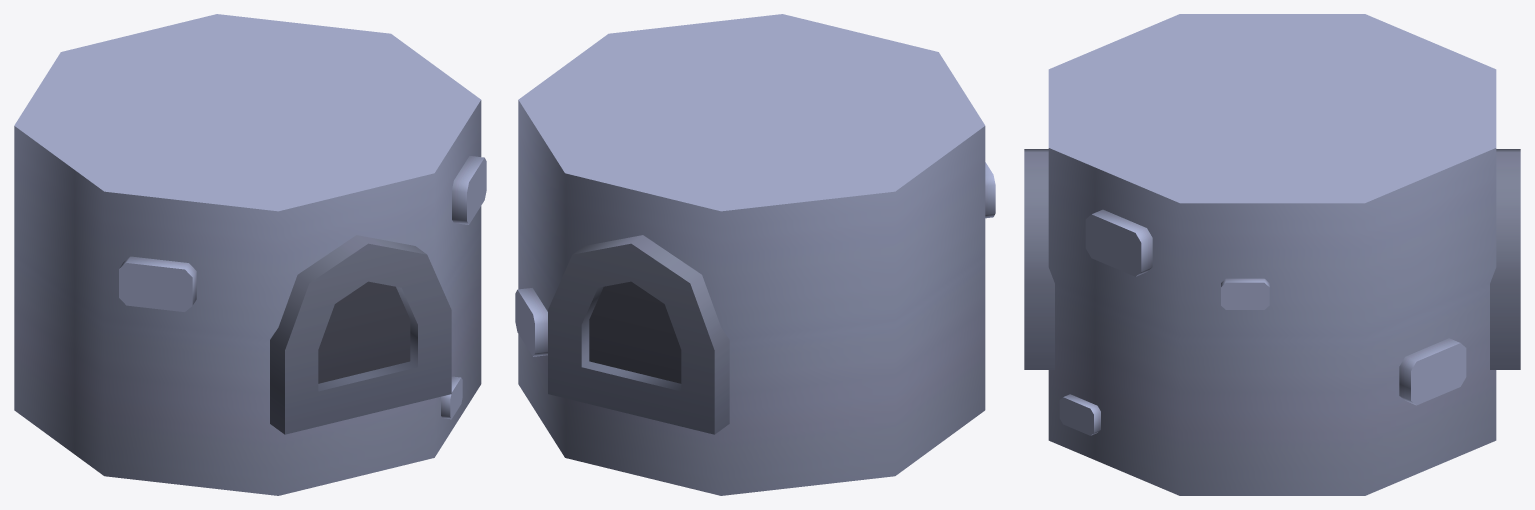
File: kenney-pirate-tower-middle-windows.glb
The picture shows the model from 3 angles, left to right: view 1: azimuth 30°, elevation 25°; view 2: azimuth 150°, elevation 25°; view 3: azimuth 270°, elevation 25°; orthographic projection. The views are drawn at different scales.
Visible parts, largest first — view 1: tower-middle-windows; view 2: tower-middle-windows; view 3: tower-middle-windows.
Part boxes in pixels (x1,y1,x2,y2): tower-middle-windows: (14,14,486,495); tower-middle-windows: (515,14,995,495); tower-middle-windows: (1024,14,1520,495).
Size of the model in its own units: 2.83 by 2 by 3.07.
1 material, 1 textured.
